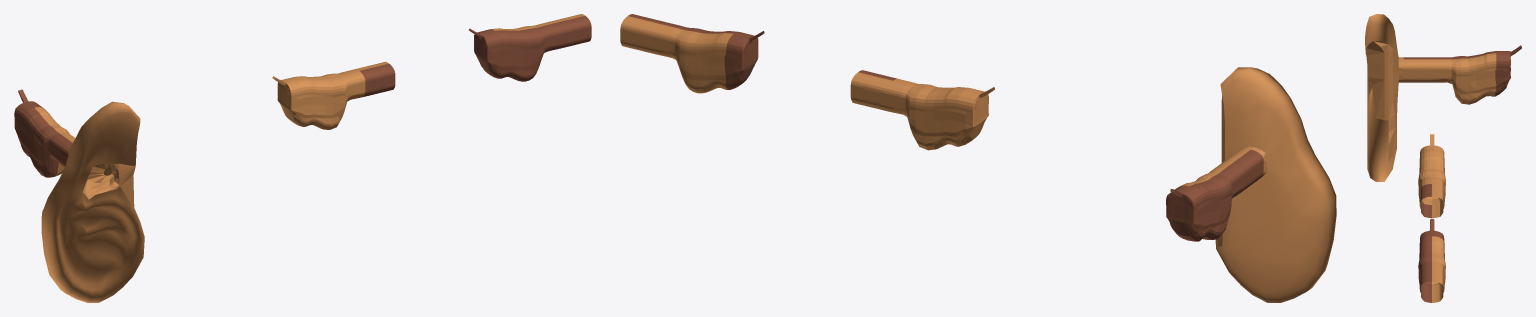
File: Ear Model (1).FBX
3 views of the same model, side by side, from view 1: azimuth 30°, elevation 25°; view 2: azimuth 150°, elevation 25°; view 3: azimuth 270°, elevation 25° (orthographic). The views are drawn at different scales.
Visible parts, largest first — view 1: Drum cover002, Drum cover003, Drum cover004; view 2: Drum cover002, Drum cover003, Drum cover004; view 3: Drum cover002, Drum cover003, Drum cover004.
Boxes of the visible parts, x1,y1,x2,y2 form: Drum cover002: [14, 89, 144, 302]; Drum cover003: [272, 62, 395, 129]; Drum cover004: [469, 14, 591, 81]; Drum cover002: [1166, 67, 1336, 302]; Drum cover003: [850, 70, 994, 150]; Drum cover004: [620, 14, 764, 93]; Drum cover002: [1365, 14, 1521, 181]; Drum cover003: [1418, 134, 1445, 218]; Drum cover004: [1418, 219, 1445, 302].
Size of the model in its own units: 346 by 112 by 93.06.
Materials: 2 (2 with a texture image).
